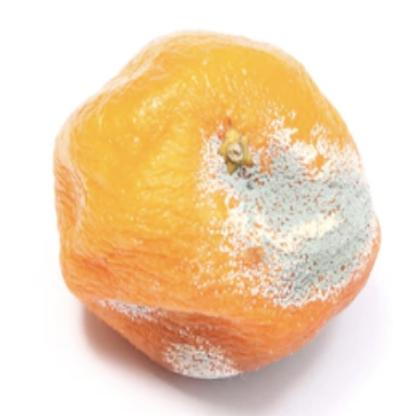rotten: (57, 32, 380, 380)
